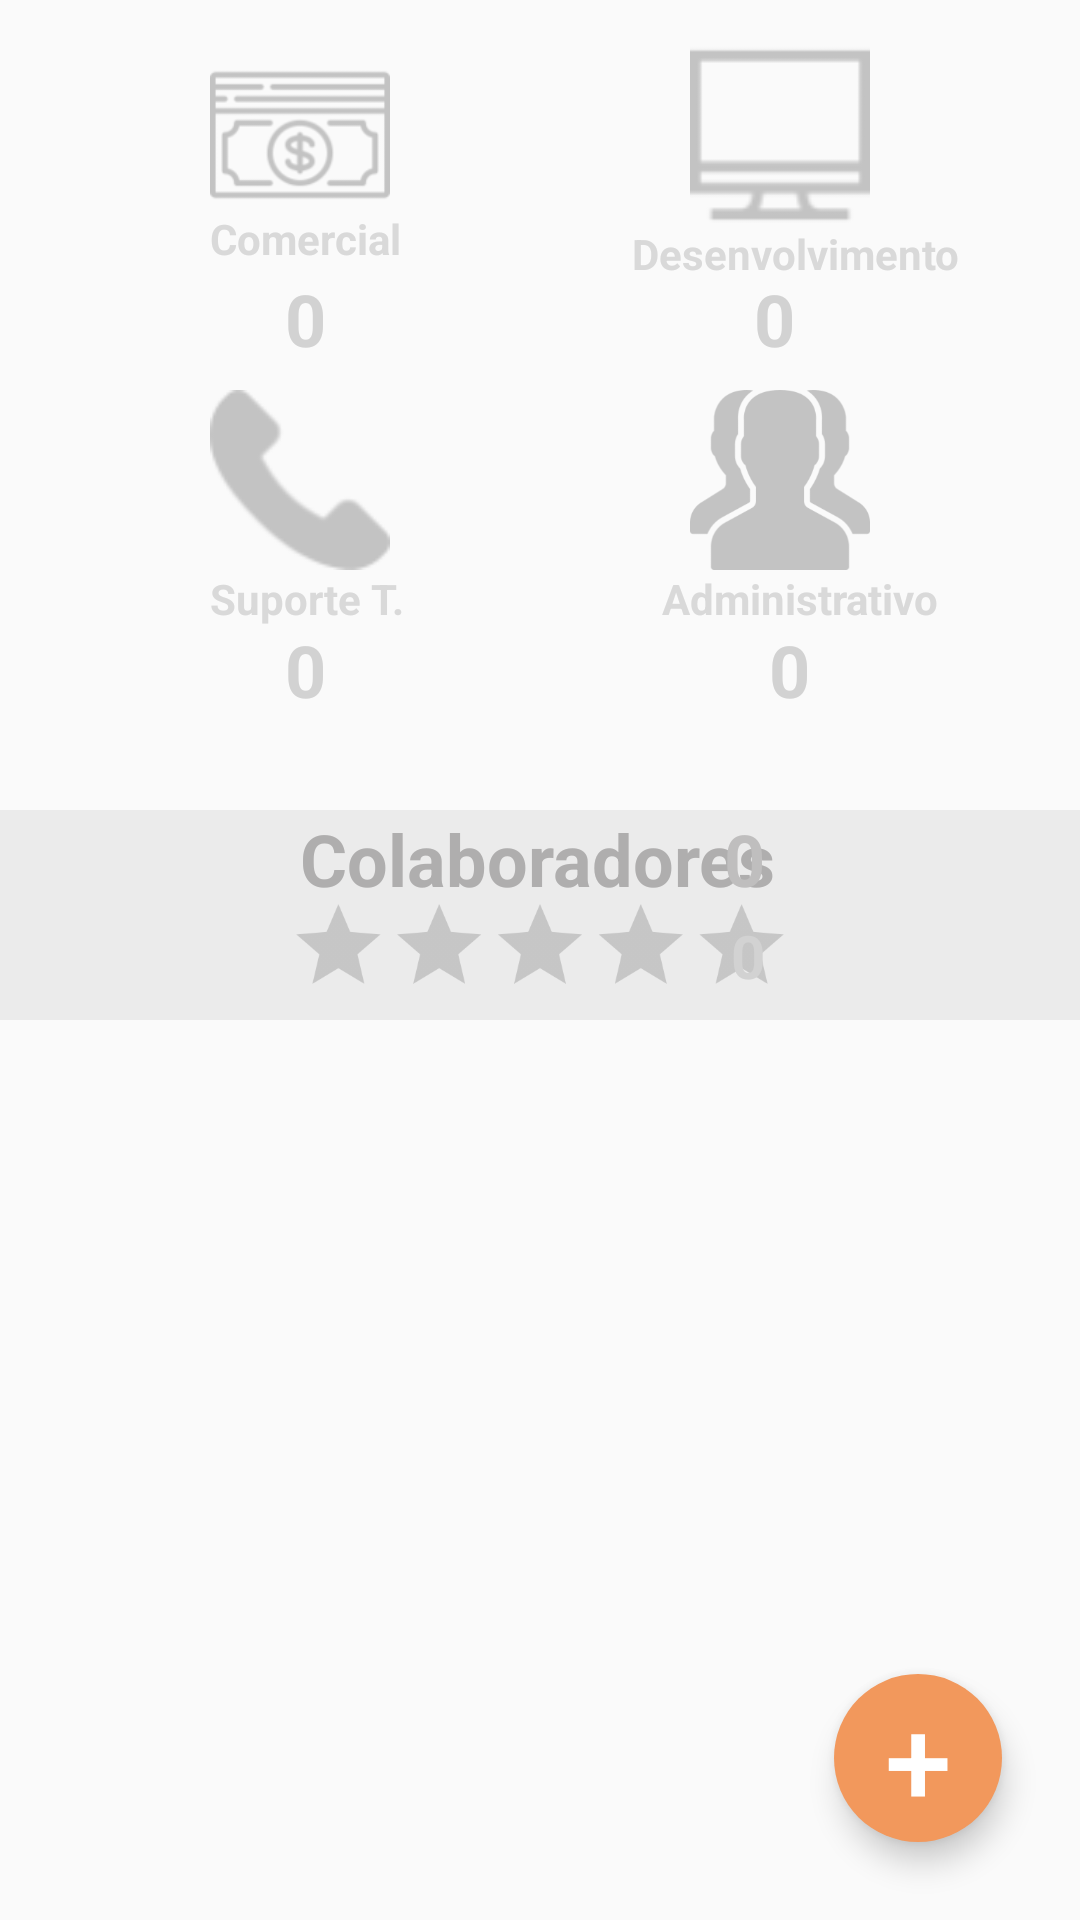

Icon bounding boxes for this 1080 x 1920 phone screenshot, format {"x1": x1, "y1": y1, "x2": x2, "y2": y2}:
atenderchamada: {"x1": 210, "y1": 390, "x2": 390, "y2": 570}
dinheiro: {"x1": 210, "y1": 72, "x2": 390, "y2": 225}
grupo: {"x1": 690, "y1": 390, "x2": 870, "y2": 570}
